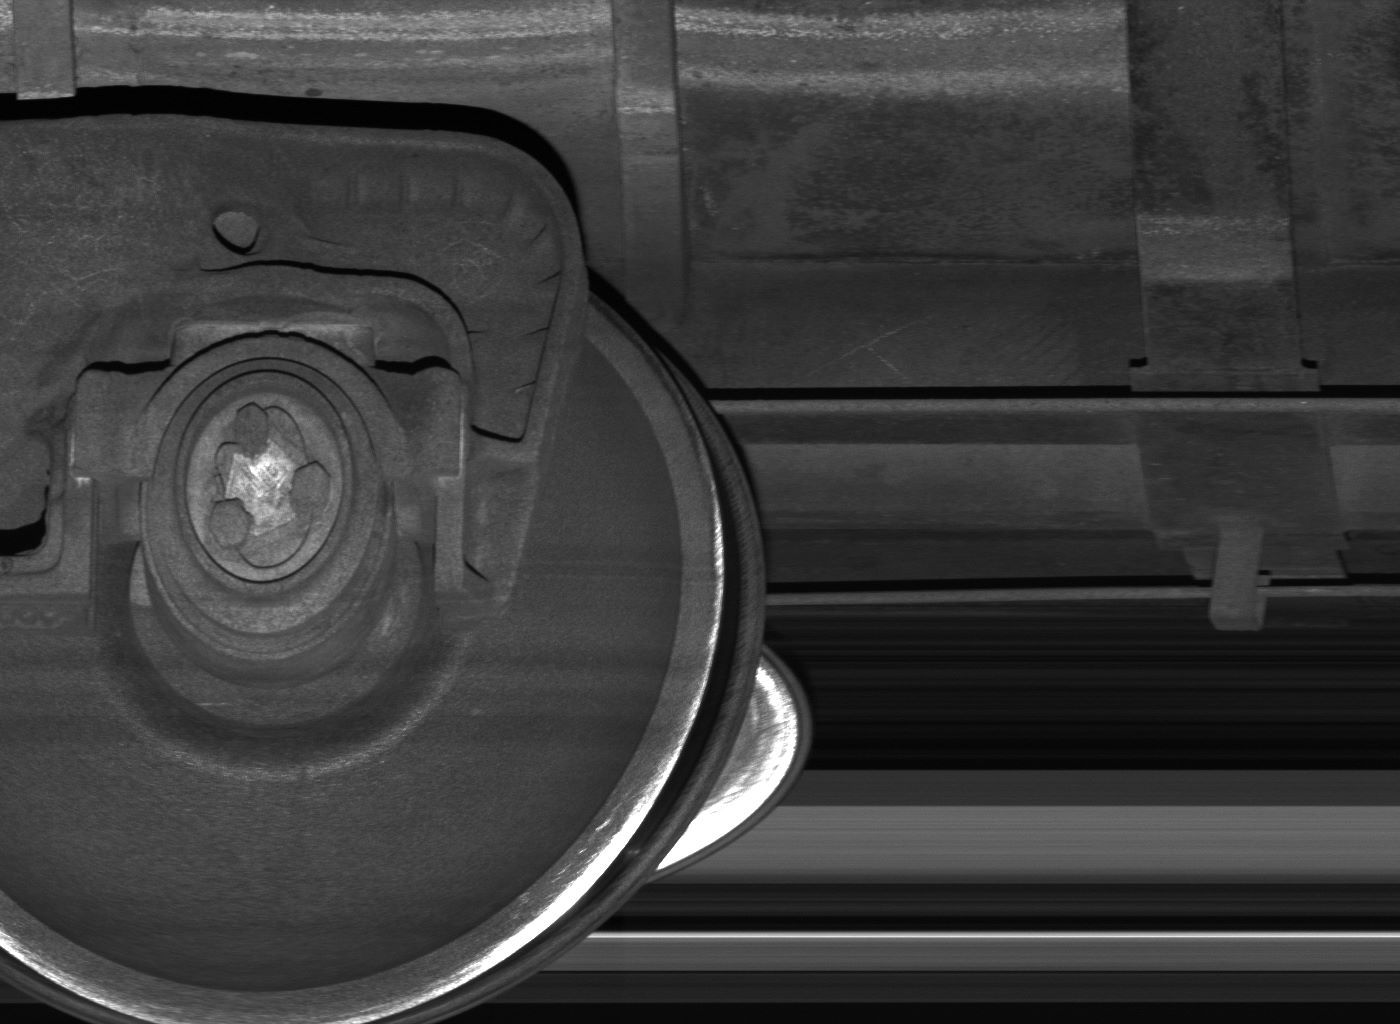normal: (1207, 515, 1268, 630)
